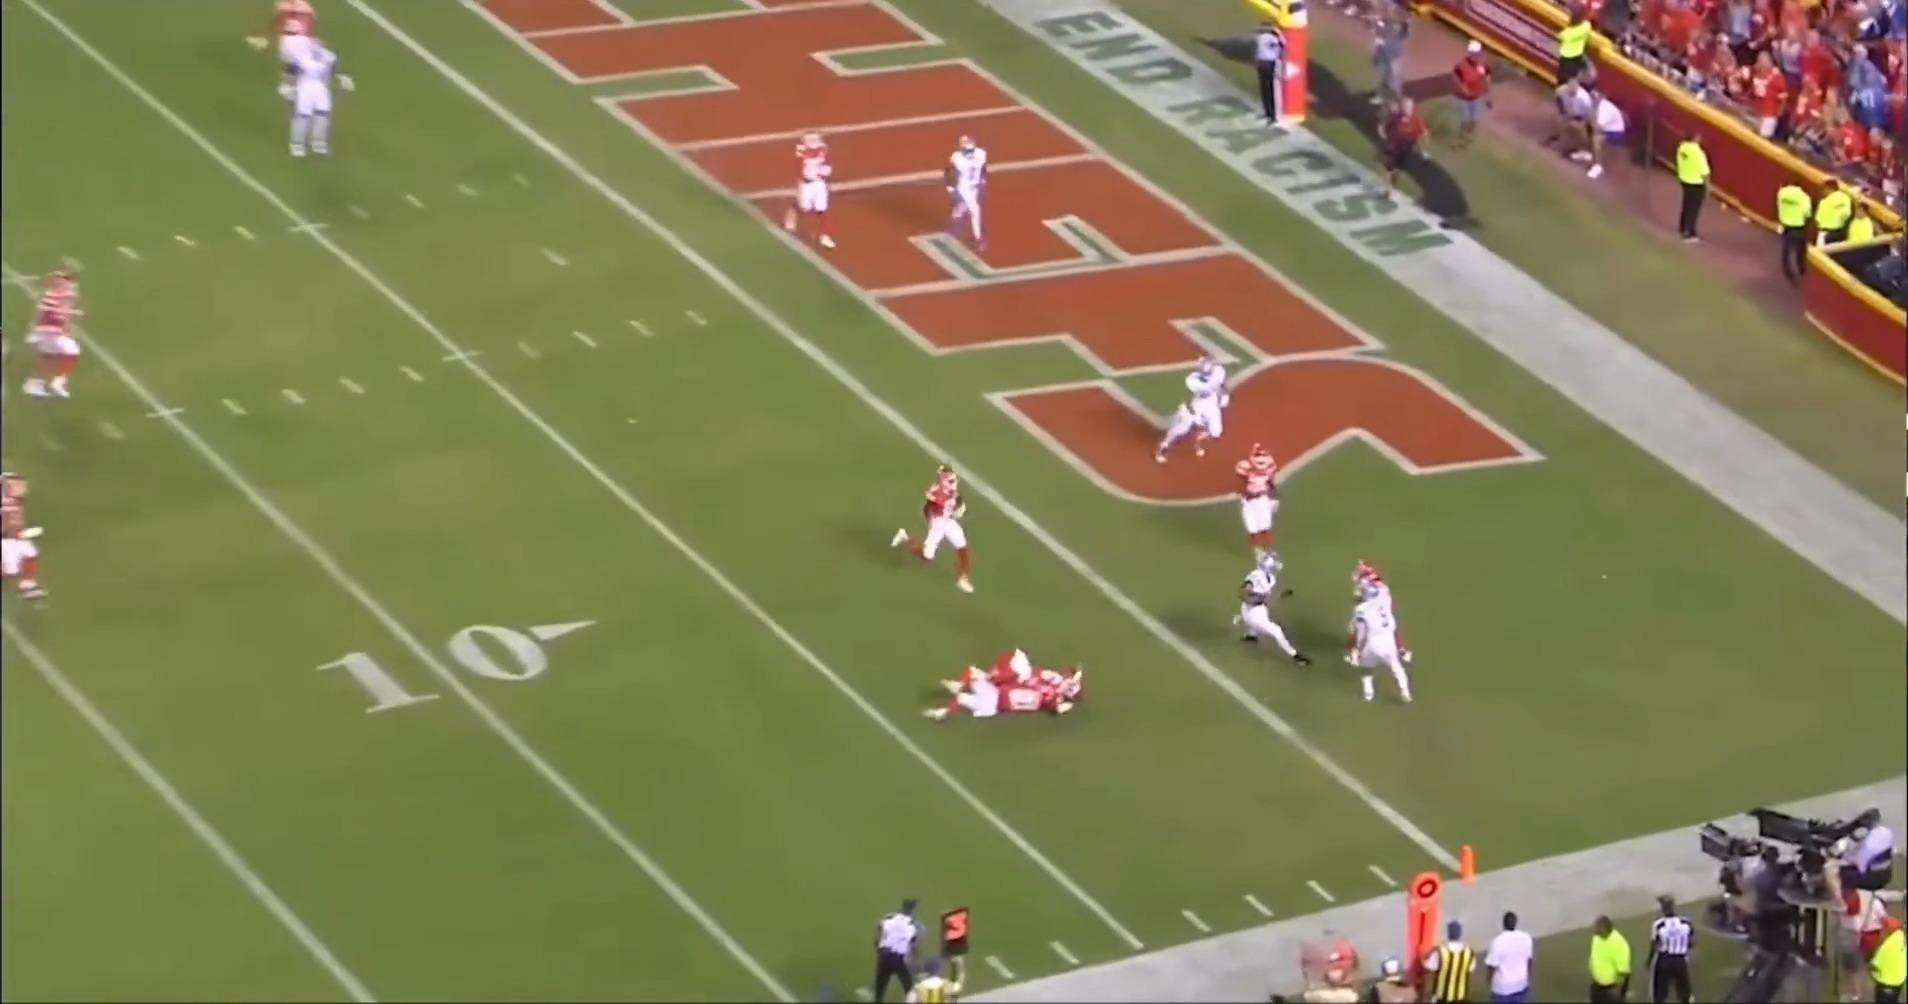player: (925, 664, 1072, 743), (1148, 350, 1240, 476), (897, 461, 980, 595), (17, 263, 88, 408), (1220, 442, 1286, 593), (283, 33, 353, 170), (1228, 553, 1304, 672), (941, 646, 1091, 696), (0, 466, 53, 607), (1353, 585, 1414, 706), (1353, 559, 1423, 661), (789, 128, 845, 251), (253, 0, 334, 73), (942, 129, 988, 248)
ref: (865, 890, 937, 1001), (1243, 9, 1289, 131)
